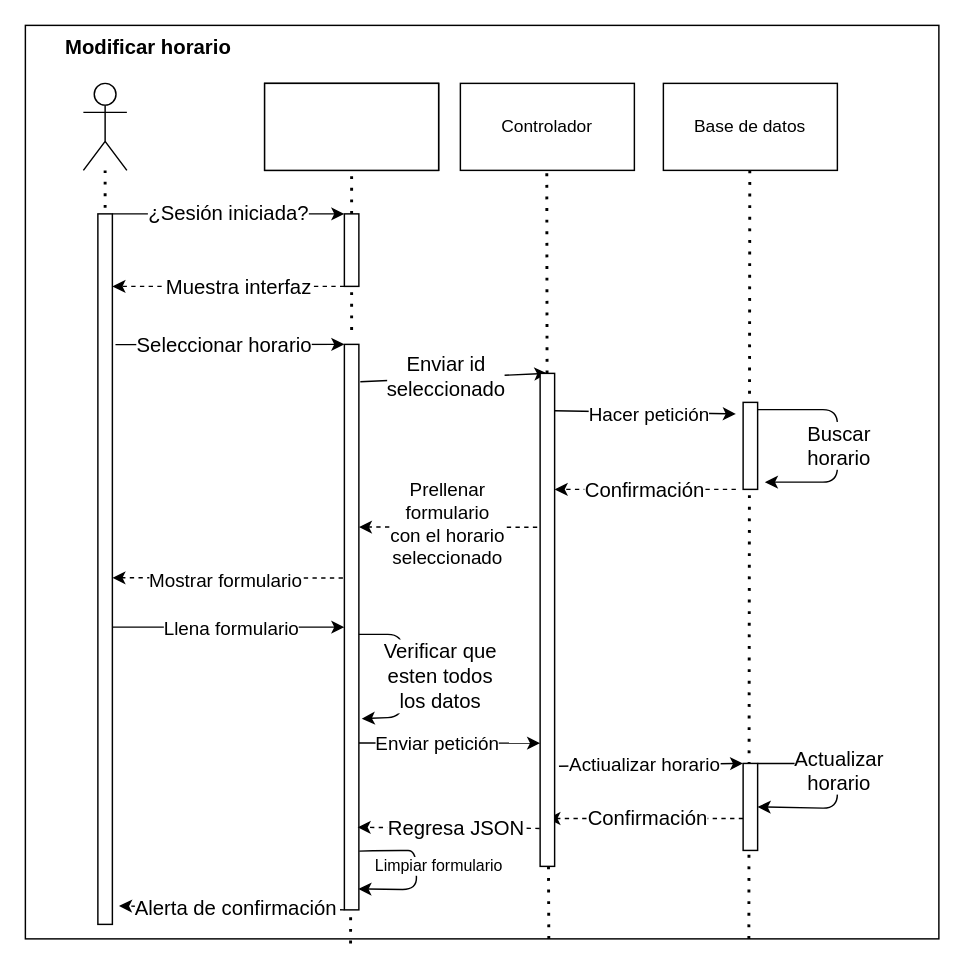
This 964x972 diagram has some shape labels left out. The box of each missing label's shape, as (x1, y1, x2, y2) in pixels:
Doctor: (82, 82, 127, 170)
Horario (vista): (263, 82, 439, 170)
